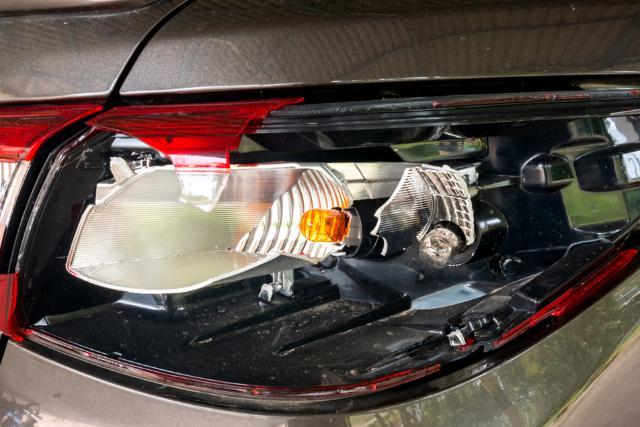Light: (8, 84, 640, 400)
